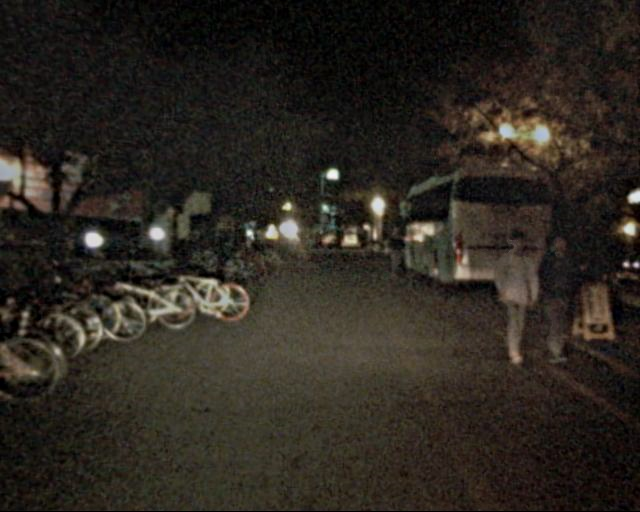person: (485, 229, 541, 366), (525, 229, 580, 362), (381, 223, 407, 287), (252, 230, 267, 266)
